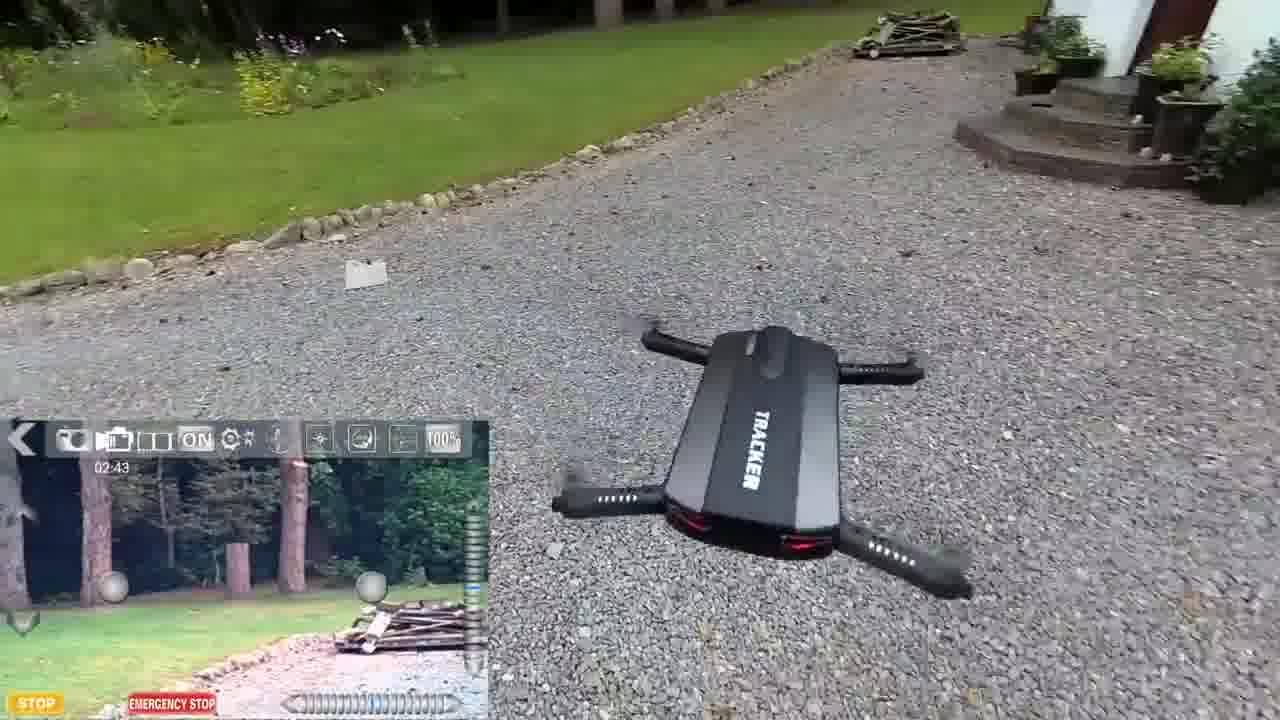drone: (530, 252, 1008, 638)
